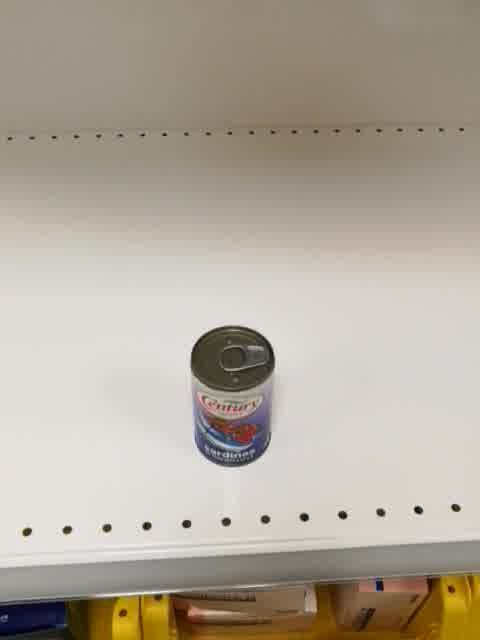sardine: (190, 324, 275, 469)
